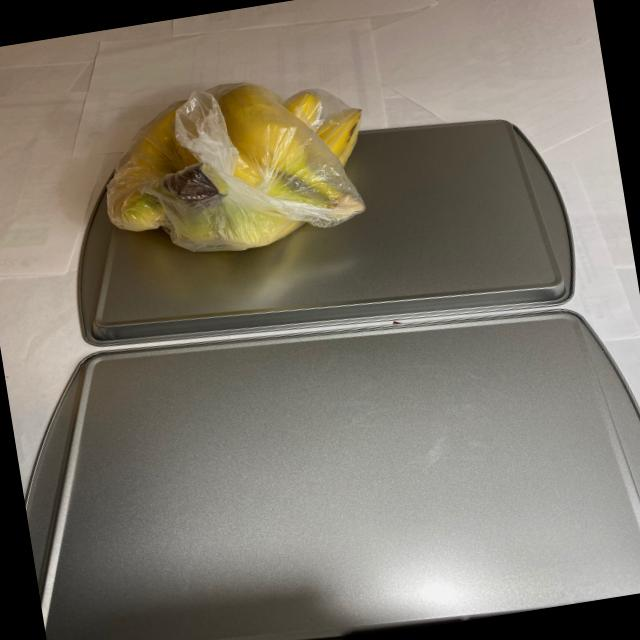banana: (83, 60, 384, 278)
